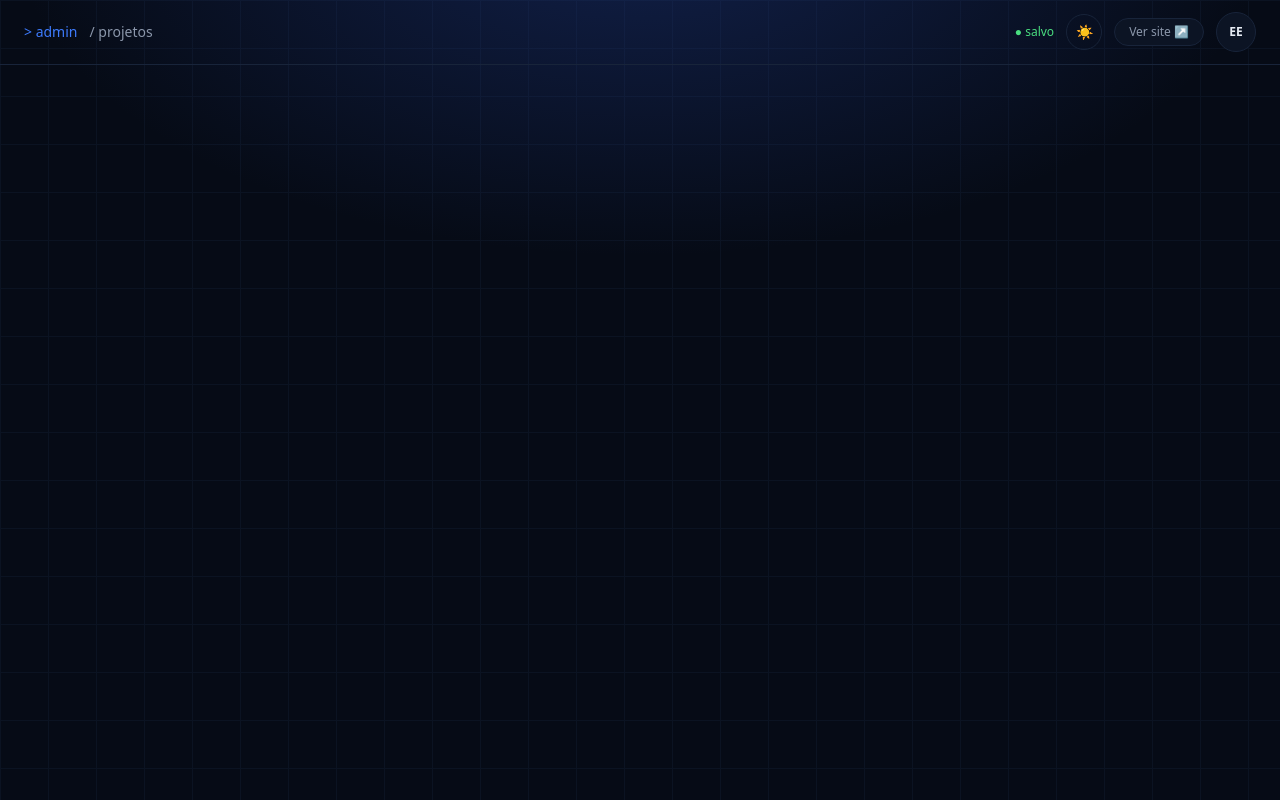
Scenario: painel: estrutura › Esc fecha o menu da conta
The width and height of the screenshot is (1280, 800).
Click the button with aria-label "Menu da conta".
click(1236, 32)  # box top-left (1216, 12), bottom-right (1256, 52)
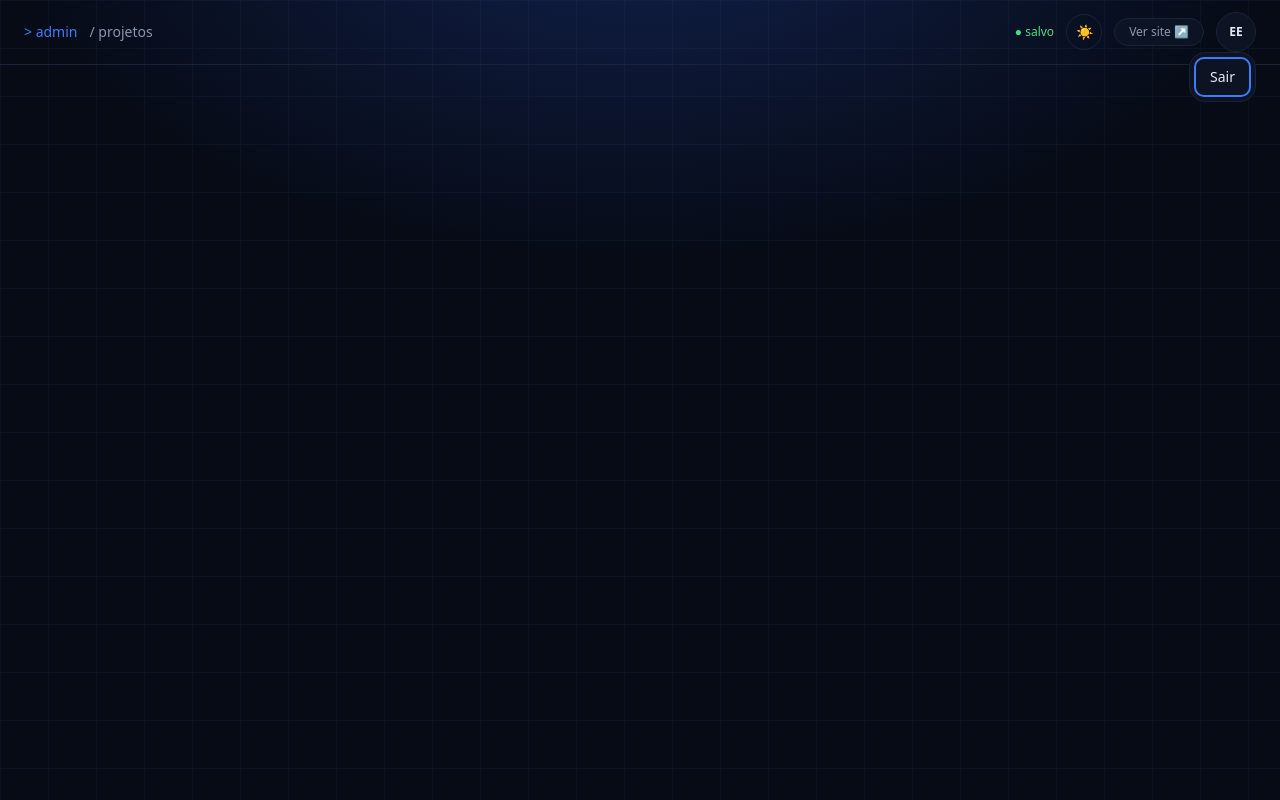
Press Escape
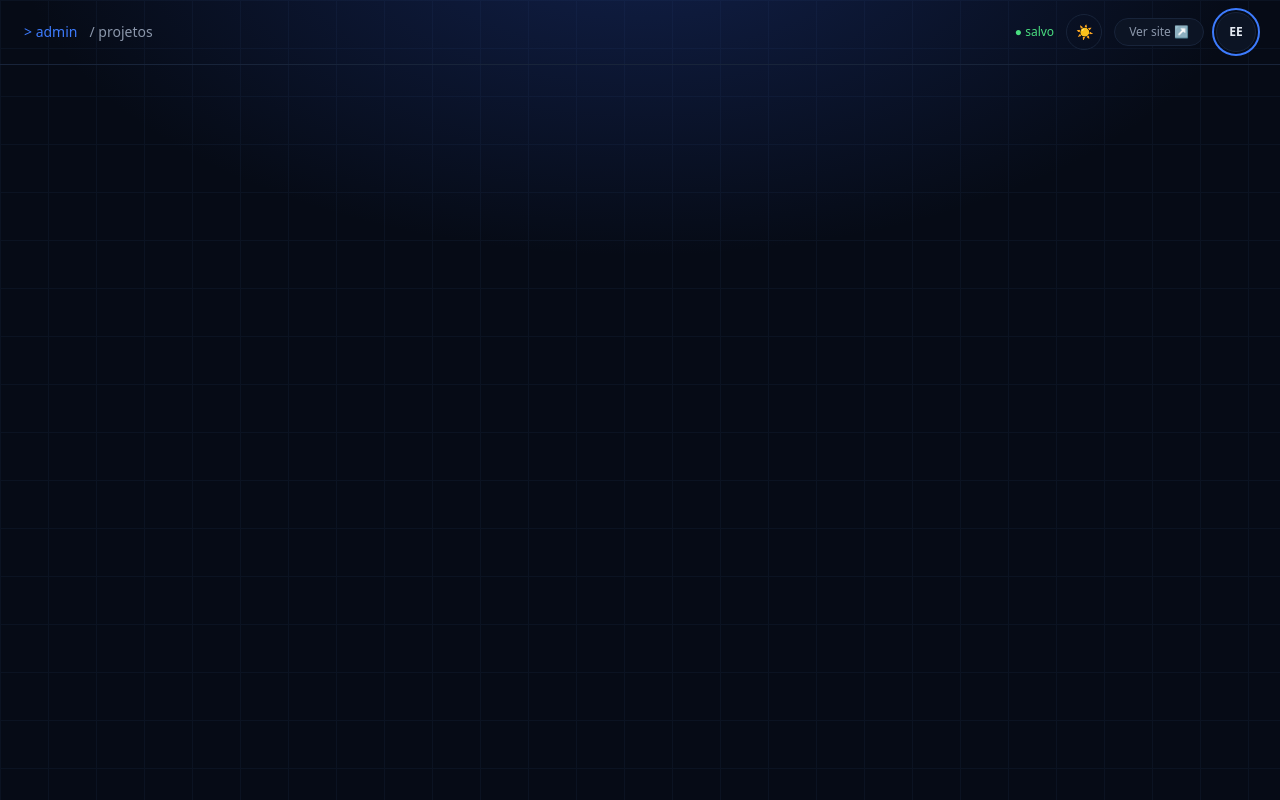
Expected: the button "Sair" is gone
